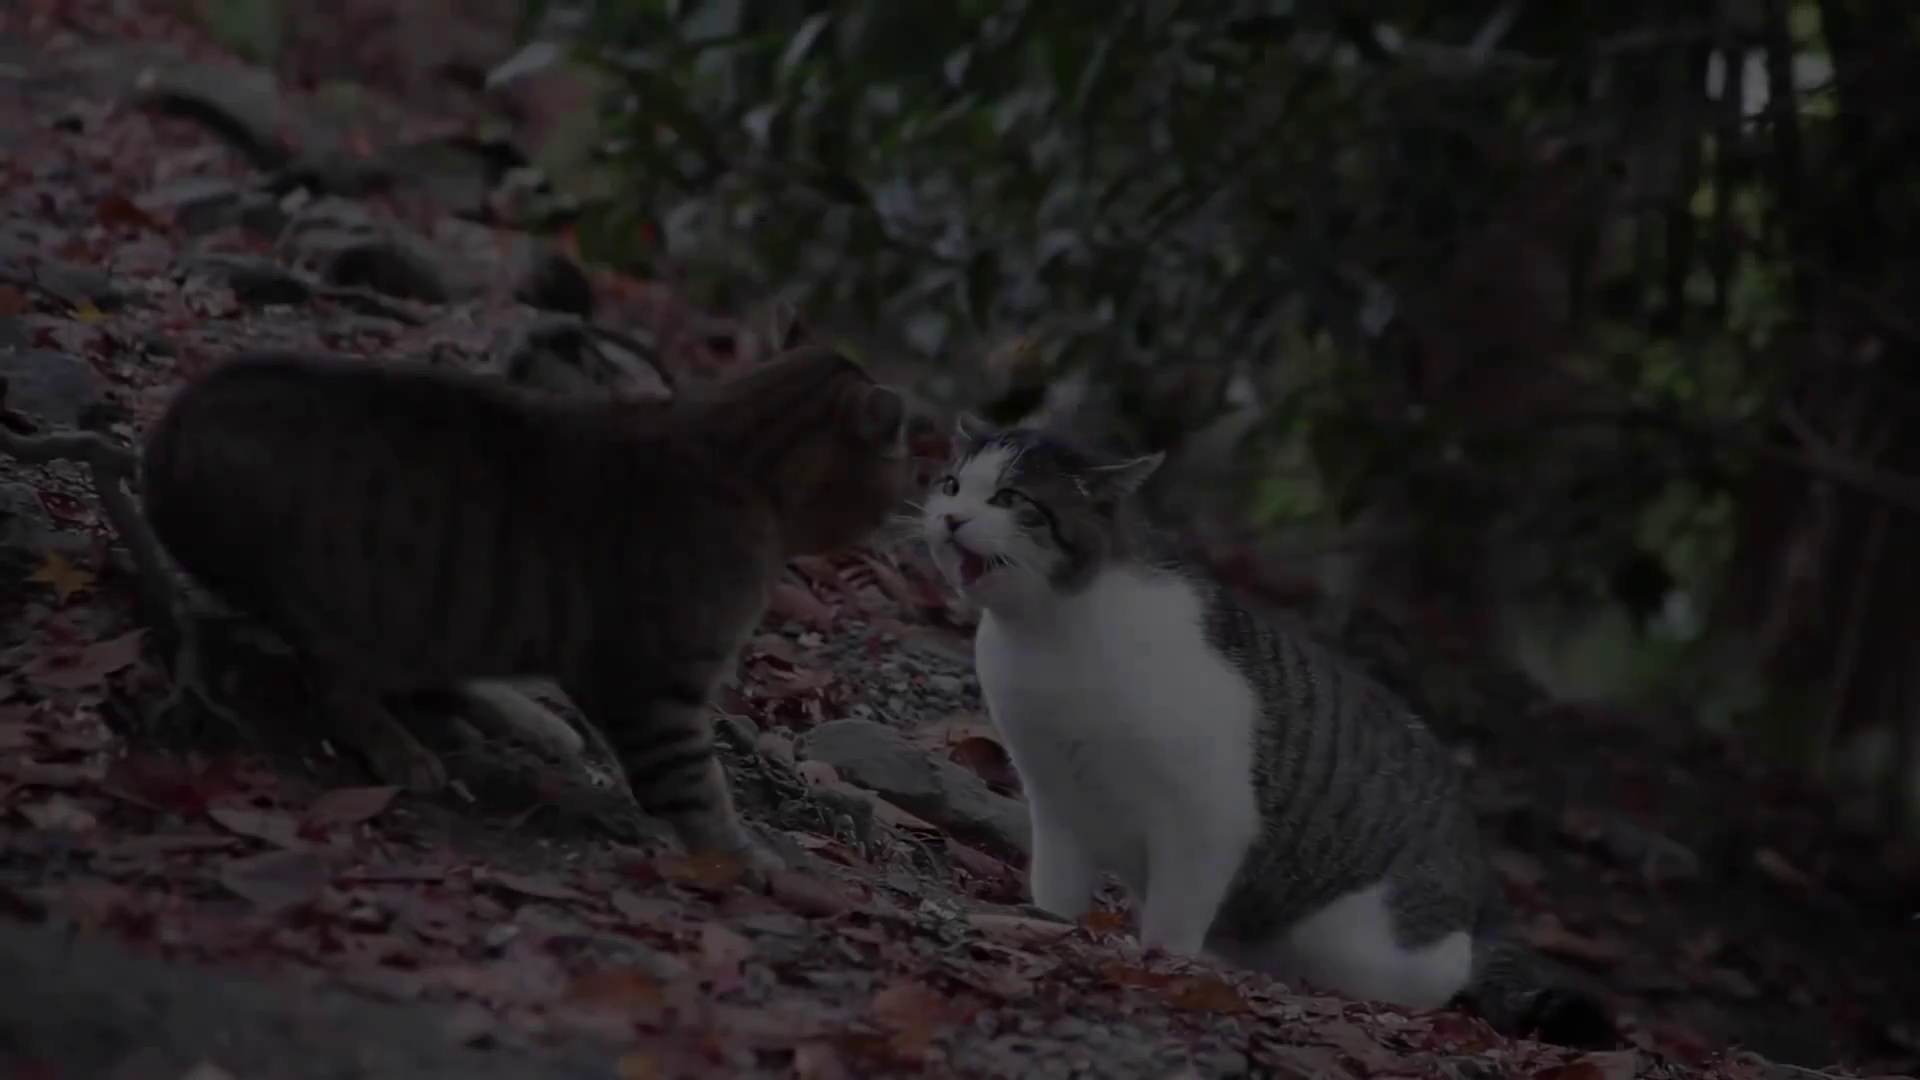black-white: (923, 407, 1498, 1021)
pure black: (104, 344, 944, 876)
